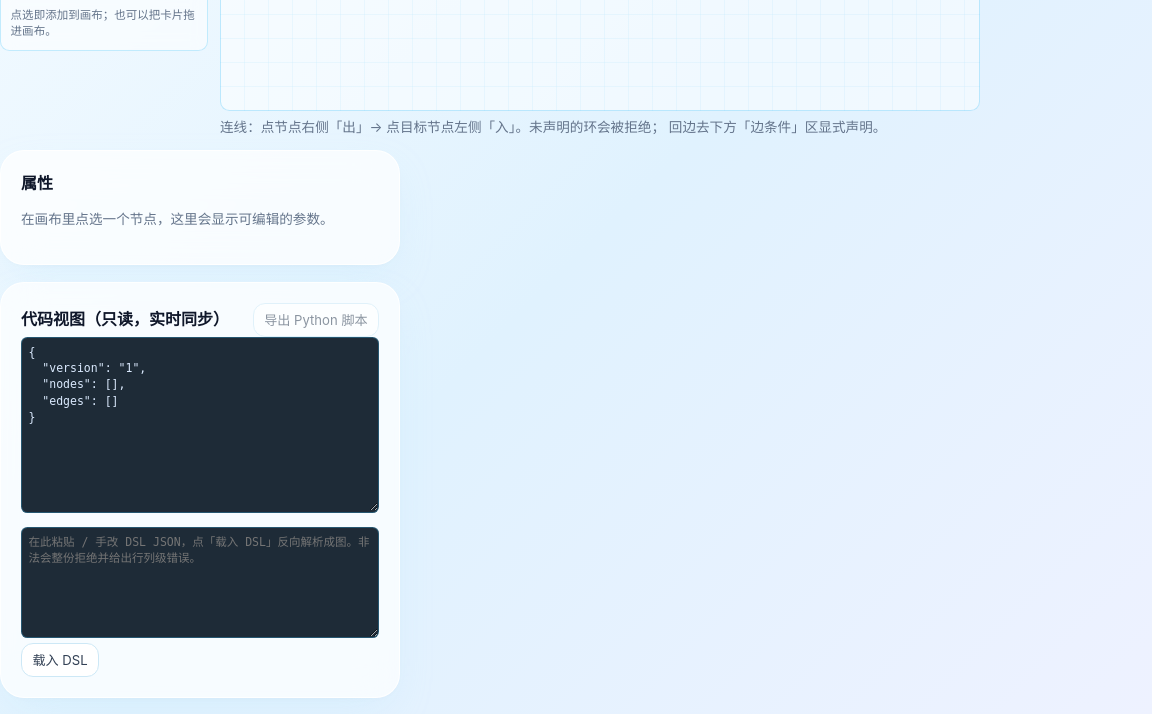
FlowEditor · 载入非法 DSL 时错误条带定位信息（G4-g2） › /validate 拒绝后，错误条里出现 validate-ir 给的 node_id + field_path
(page scrolled)
Click the text box with test id "flow-dsl-input".
click(200, 582)  # box x1=21 y1=526 x2=379 y2=638
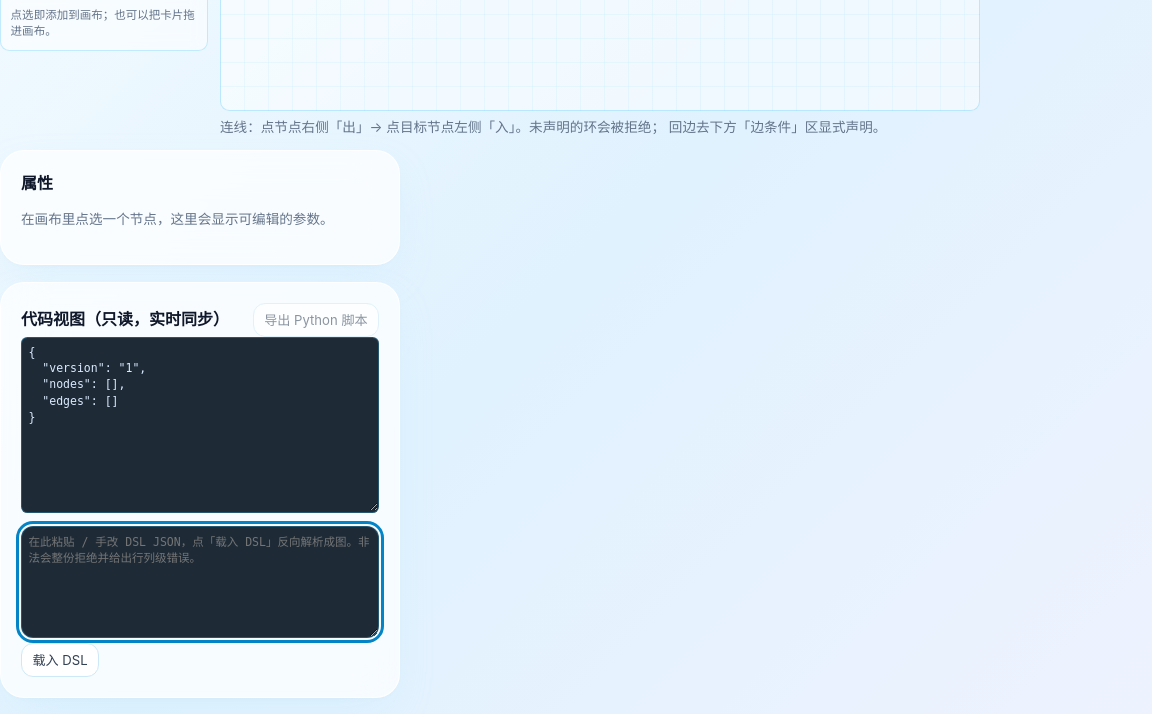
Type keys "{\"version\":\"1\",\"nodes\":[{\"id\":\"b\",\"type\":\"transform\",\"verb\":\"translate\"}],\"edges\":[]}"
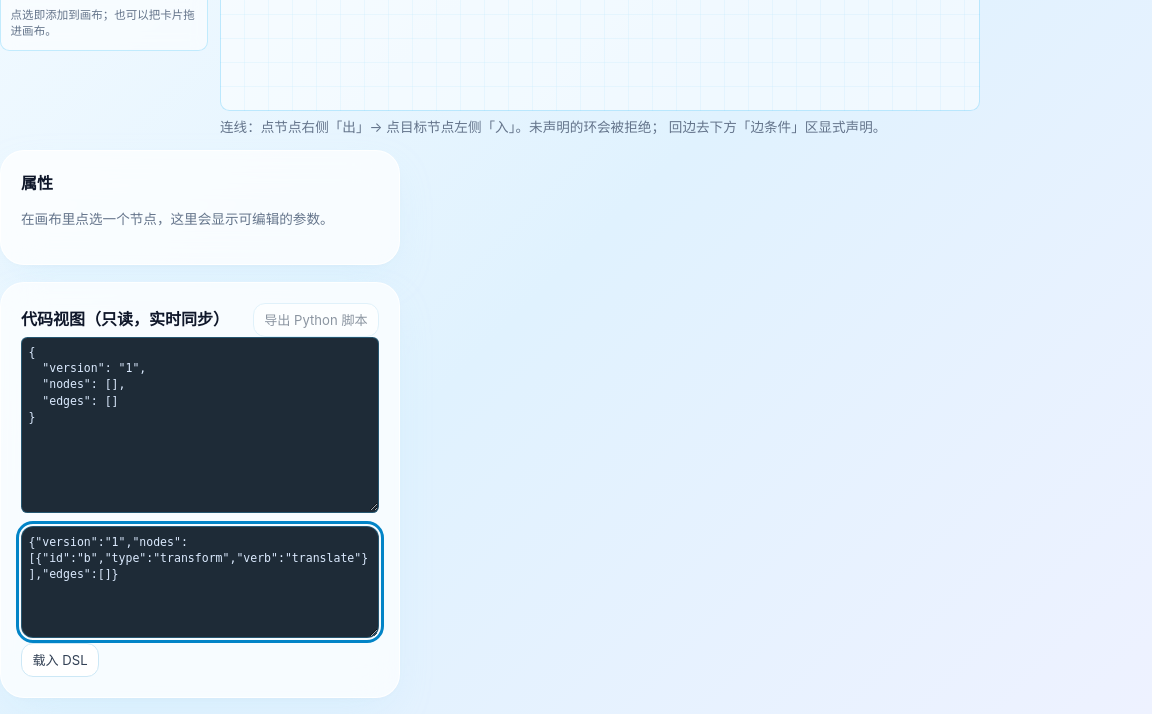
Click the button with test id "flow-load".
click(60, 660)  # box x1=21 y1=643 x2=99 y2=677
(page scrolled)
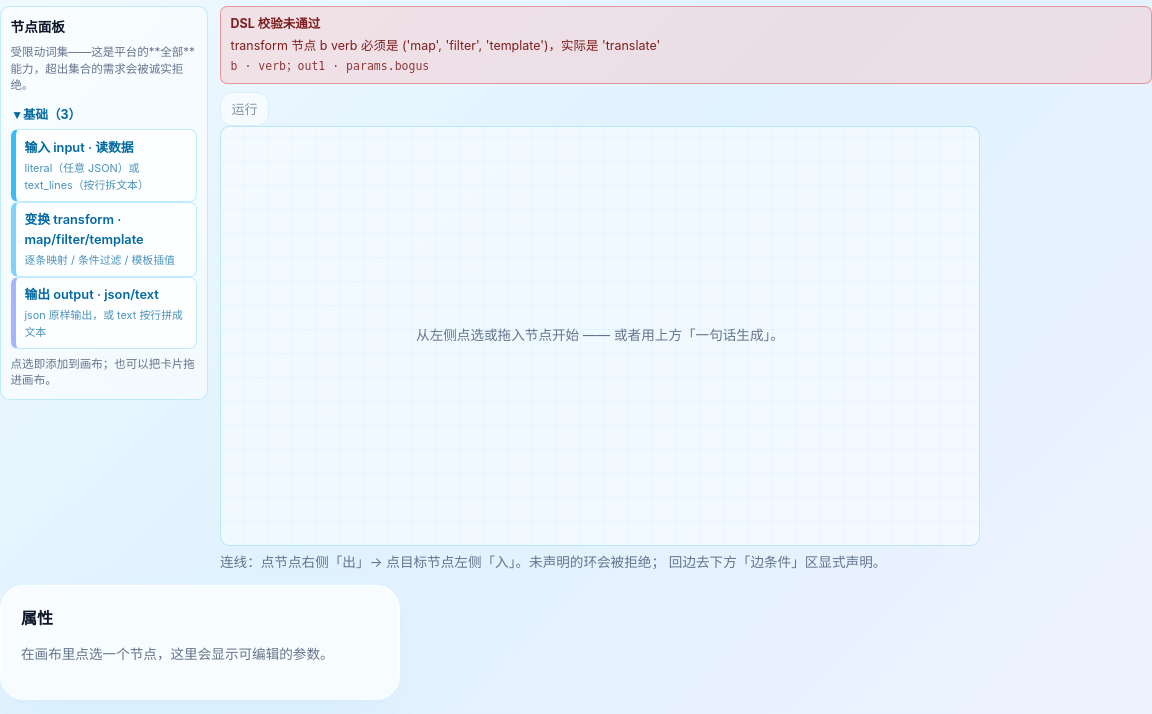
expect the message with test id "flow-error" is shown: met, box x1=220 y1=6 x2=1151 y2=84
expect the message with test id "flow-error" shows "必须是 ('map', 'filter', 'template')": met, box x1=231 y1=38 x2=660 y2=53
expect the text with test id "flow-error-pos" shows "b": met, box x1=231 y1=59 x2=429 y2=73
